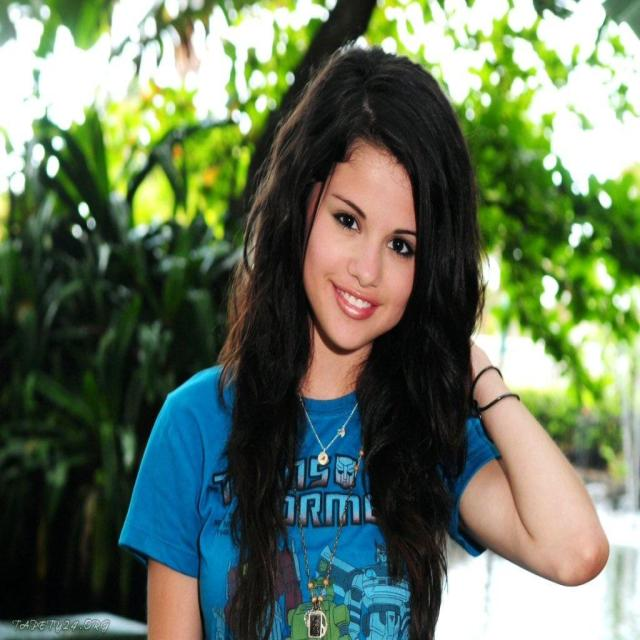Face: (308, 146, 424, 341)
